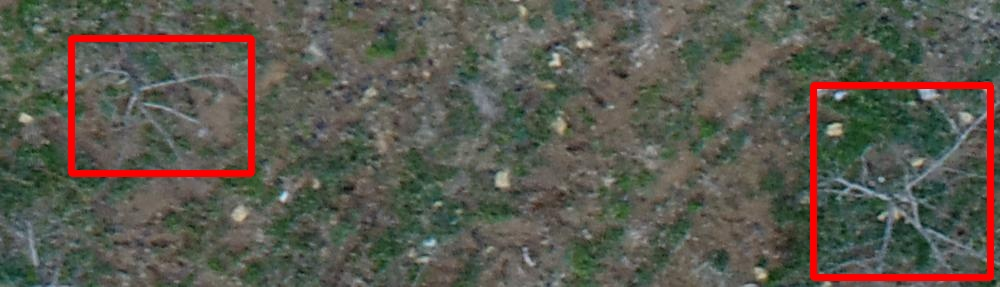apple: (813, 85, 990, 277), (71, 38, 251, 173)
